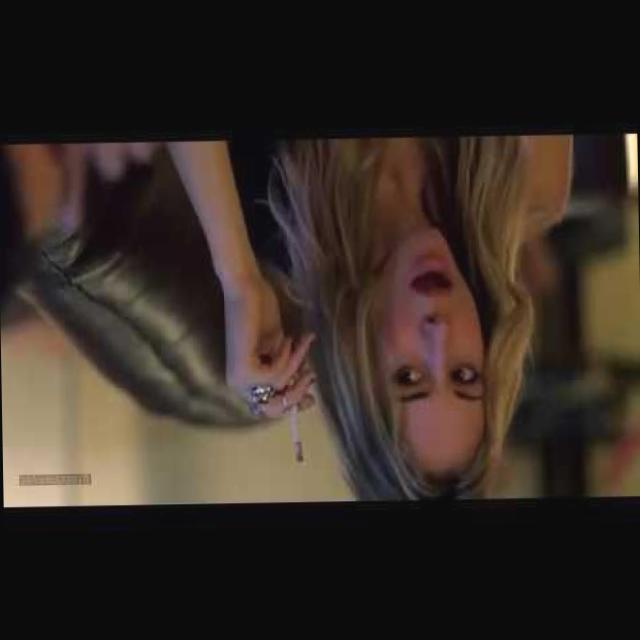cigarette: (282, 384, 310, 478)
